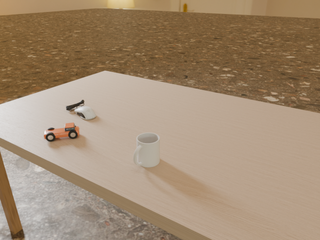cup: (133, 133, 160, 167)
mouse: (75, 106, 96, 120)
toy_car: (44, 123, 79, 141)
